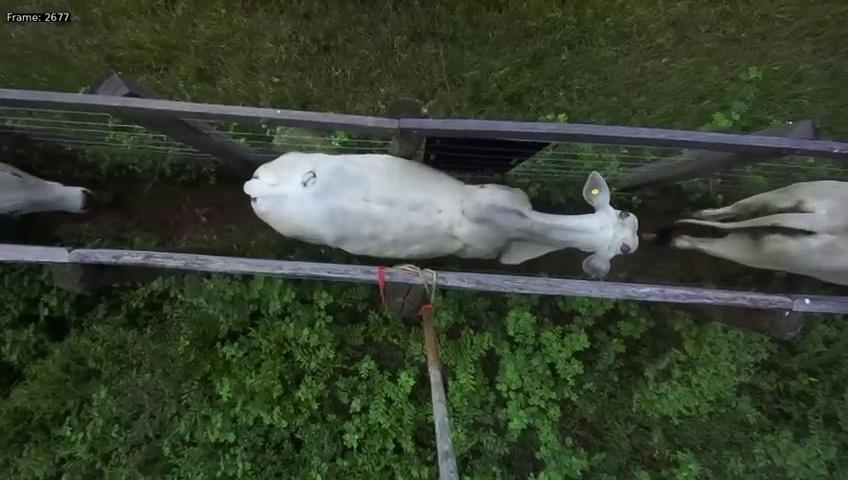cattle: (239, 129, 641, 280)
